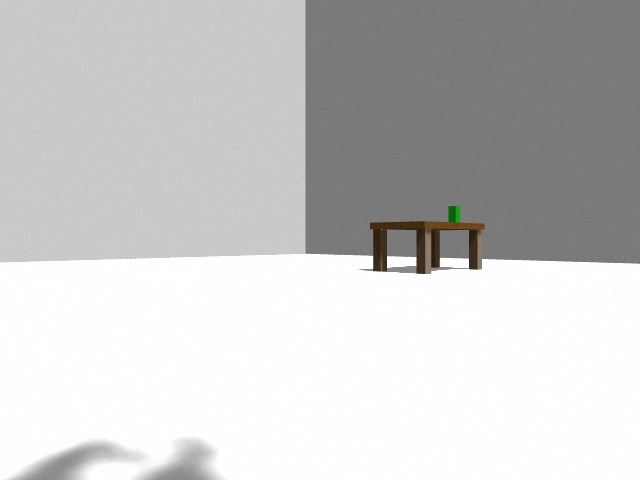green_cube: (448, 206, 460, 222)
